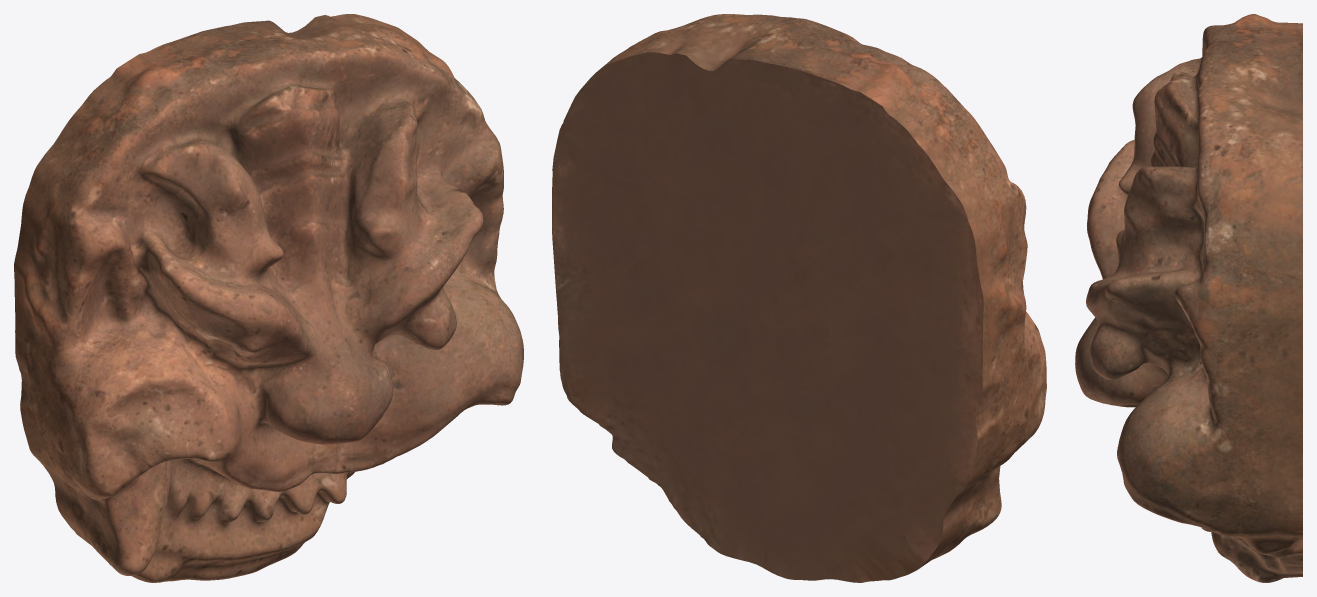
The model's file is MysonMuseum_KALA1_final.glb.
The picture shows the model from 3 angles, left to right: view 1: azimuth 30°, elevation 25°; view 2: azimuth 150°, elevation 25°; view 3: azimuth 270°, elevation 25°; orthographic projection. The views are drawn at different scales.
Bounding box in the file's own units: 0.2453 × 0.277 × 0.1119.
Materials: 1 (1 with a texture image).
